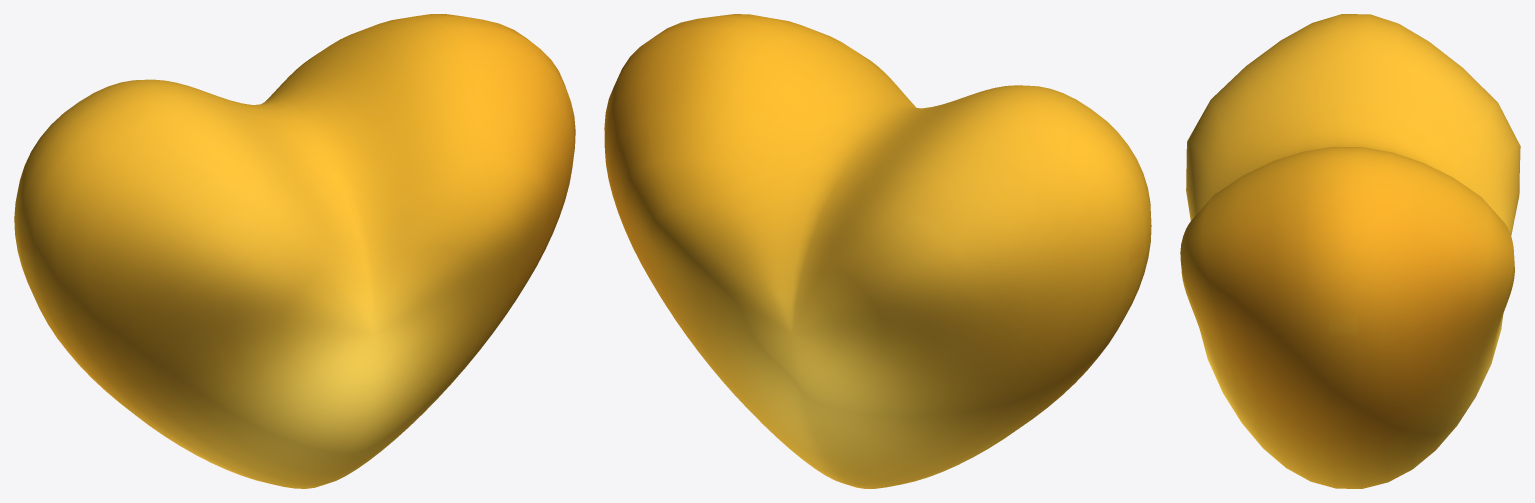
Rendered from heart-crystal-v18-yellow.glb.
3 renders of one model, left to right at view 1: azimuth 30°, elevation 25°; view 2: azimuth 150°, elevation 25°; view 3: azimuth 270°, elevation 25°, orthographic. The views are drawn at different scales.
Parts seen in each view (by area): view 1: Heart_Glass; view 2: Heart_Glass; view 3: Heart_Glass.
Boxes of the visible parts, x1,y1,x2,y2 form: Heart_Glass: [14, 14, 575, 488]; Heart_Glass: [604, 14, 1151, 488]; Heart_Glass: [1180, 14, 1520, 488].
Size of the model in its own units: 0.0801 by 0.0607 by 0.0479.
1 material, 1 textured.
